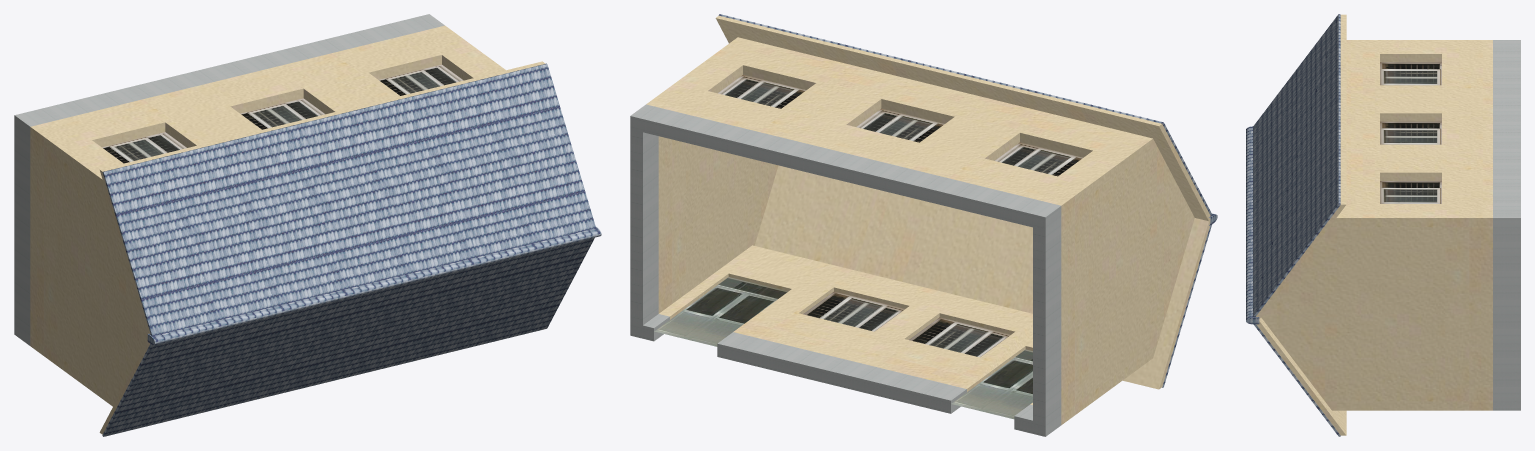
The picture shows the model from 3 angles, left to right: view 1: azimuth 30°, elevation 25°; view 2: azimuth 150°, elevation 25°; view 3: azimuth 270°, elevation 25°; orthographic projection. The views are drawn at different scales.
Visible parts, largest first — view 1: Obj3d66_1016156_138_381; view 2: Obj3d66_1016156_138_381; view 3: Obj3d66_1016156_138_381.
Boxes of the visible parts, <box> form: Obj3d66_1016156_138_381: <box>14,14,601,436</box>; Obj3d66_1016156_138_381: <box>630,14,1217,436</box>; Obj3d66_1016156_138_381: <box>1246,14,1520,436</box>.
Bounding box in the file's own units: 7.07 × 4.01 × 4.29.
Materials: 5 (5 with a texture image).
